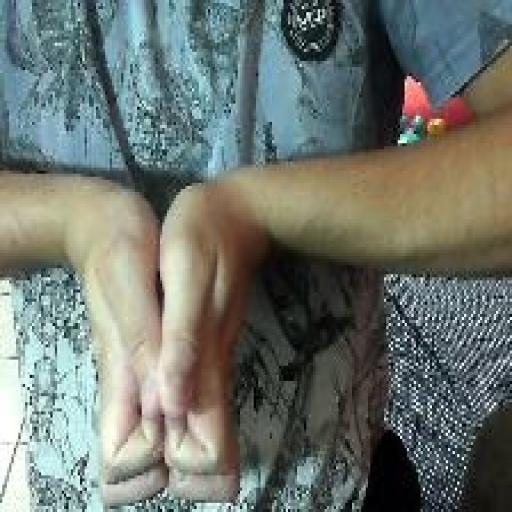I -boar-: (78, 166, 247, 511)
